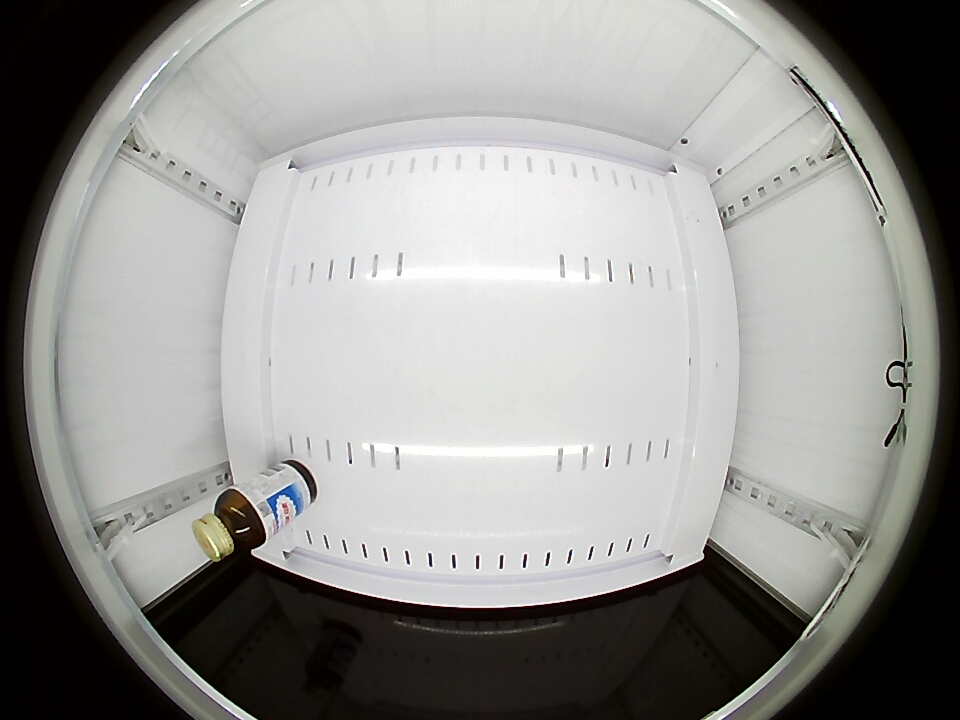libaojian: (192, 489, 267, 561)
